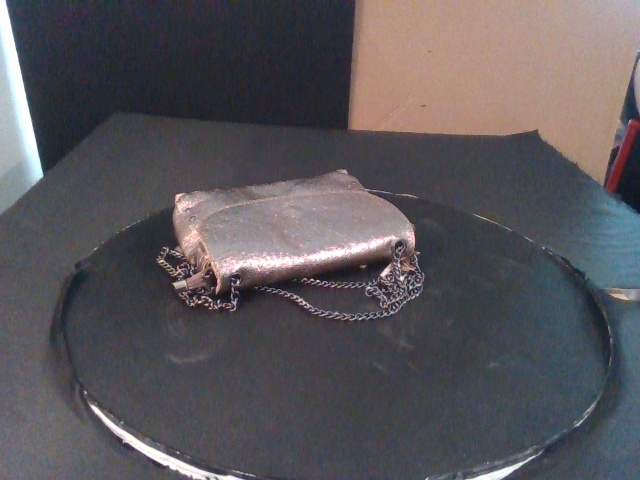bag: (172, 168, 416, 296)
